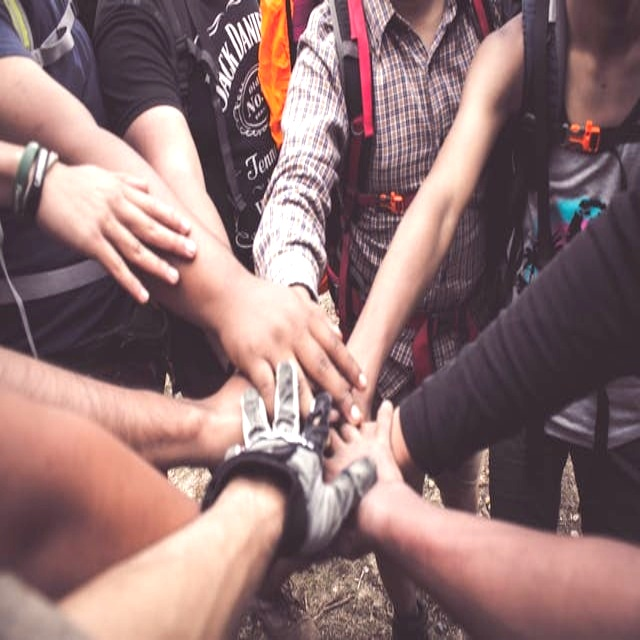foam_scum: (0, 0, 346, 339), (347, 0, 495, 381), (209, 359, 450, 529)
turbid_water: (13, 13, 627, 627)
